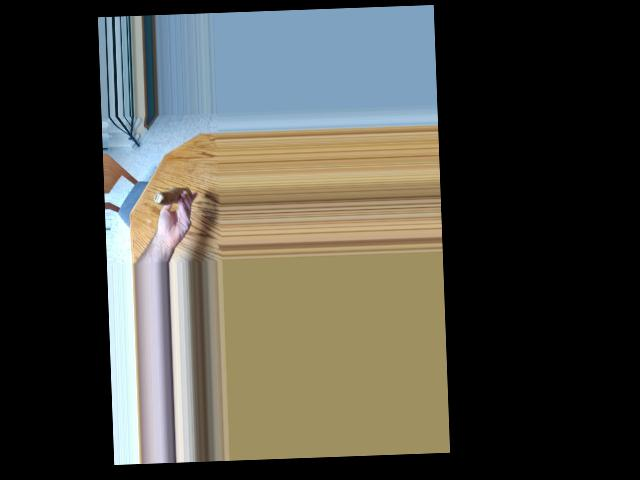sweet_potato: (157, 186, 192, 200)
